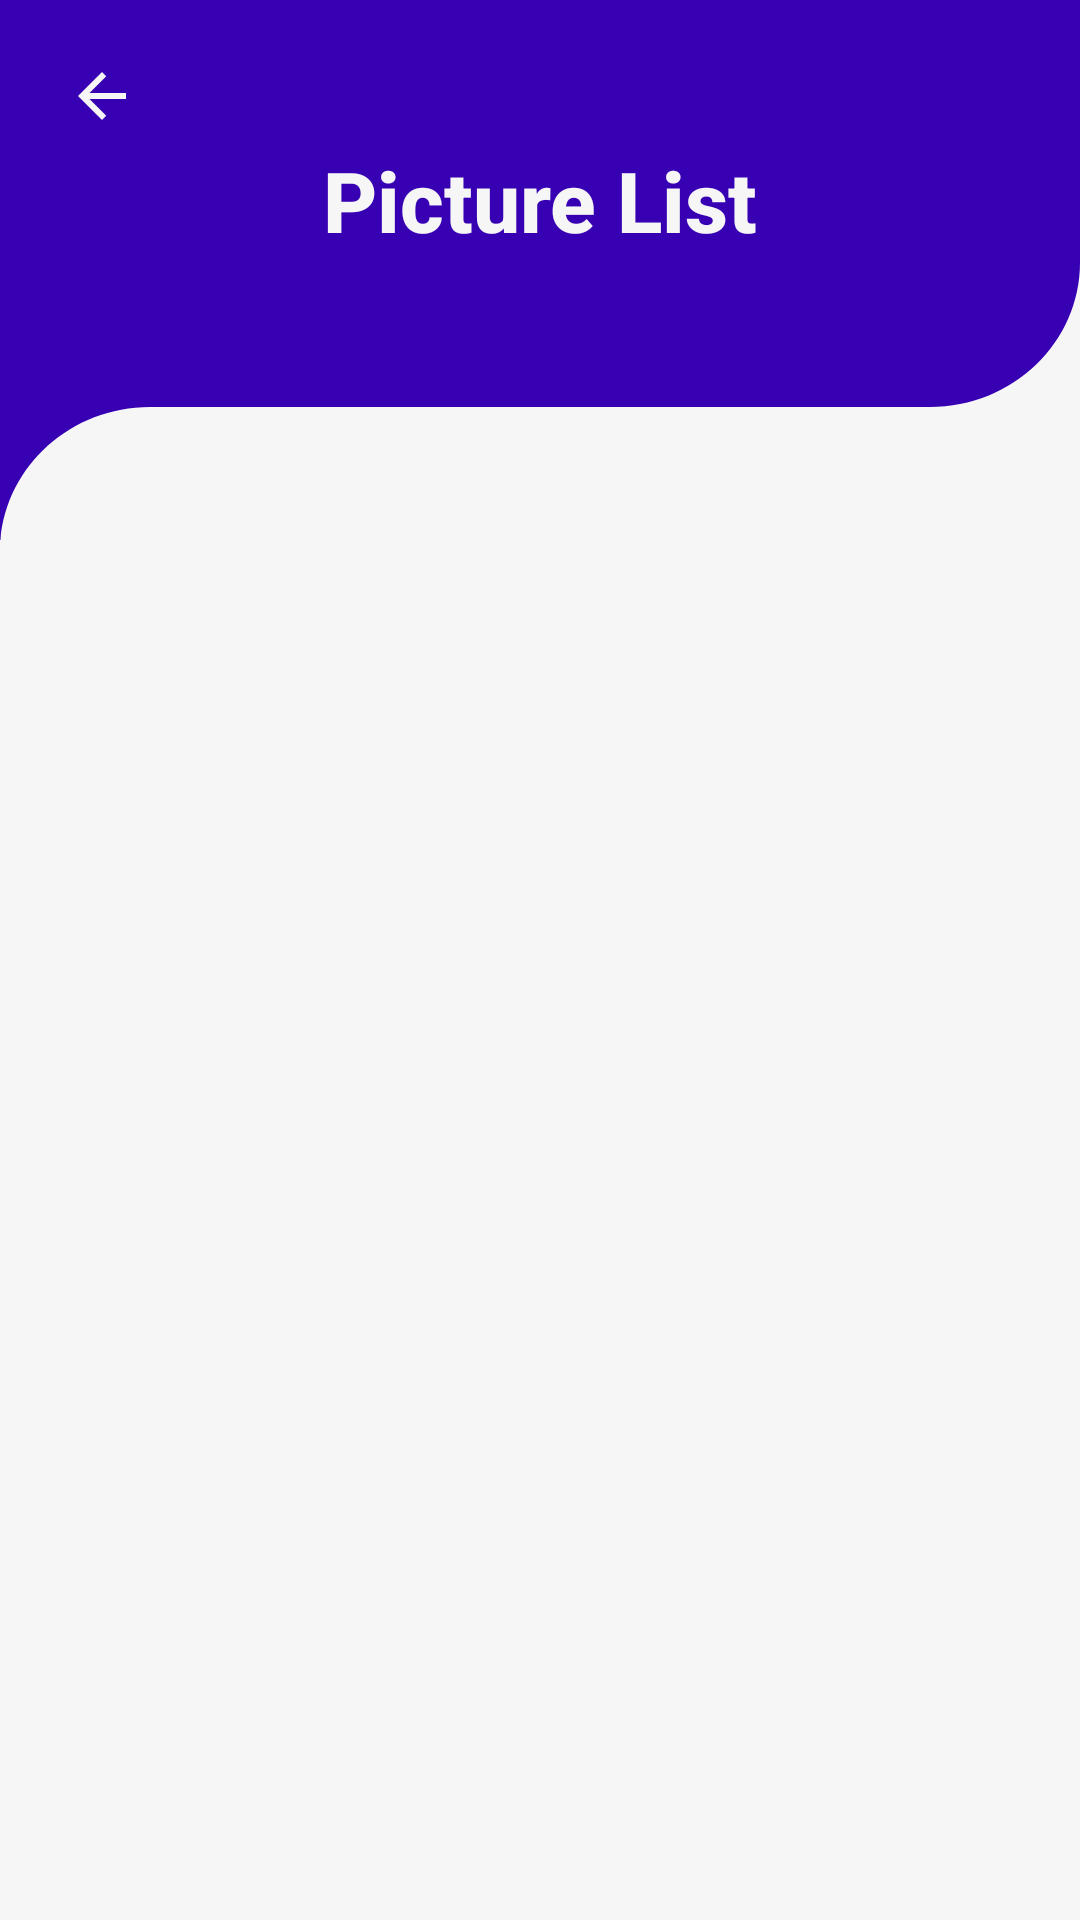

Screen size 1080w x 1920h. Icon name, then its center in pixels as (x=x, y=y):
back arrow: (x=102, y=96)
